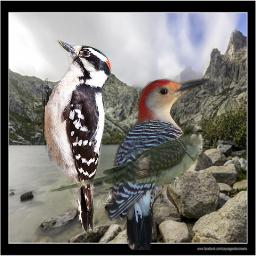Cuckoo: (46, 123, 204, 195)
Woodpecker: (108, 78, 210, 250), (34, 39, 113, 238)
